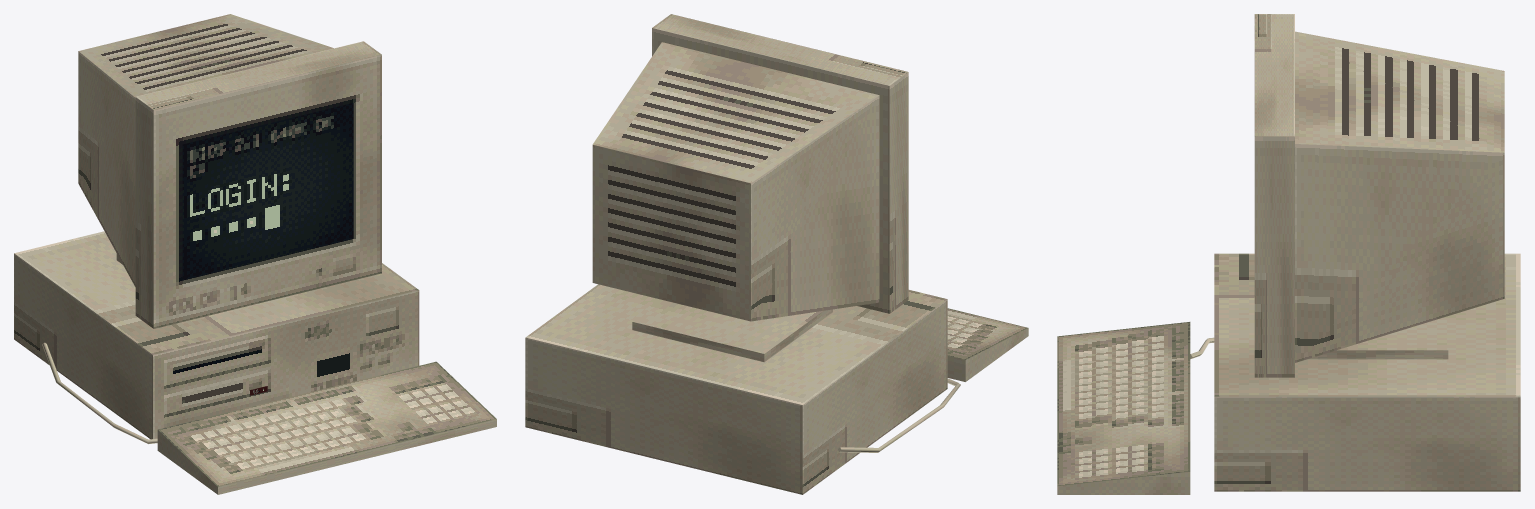
File: computer_crt.glb
3 views of the same model, side by side, from view 1: azimuth 30°, elevation 25°; view 2: azimuth 150°, elevation 25°; view 3: azimuth 270°, elevation 25° (orthographic). The views are drawn at different scales.
Visible parts, largest first — view 1: computer_crt; view 2: computer_crt; view 3: computer_crt.
Part boxes in pixels (left/top/right/bottom): computer_crt: left=14, top=14, right=496, bottom=494; computer_crt: left=525, top=14, right=1028, bottom=494; computer_crt: left=1057, top=14, right=1520, bottom=494.
Size of the model in its own units: 0.4595 by 0.472 by 0.575.
2 materials, 2 textured.
